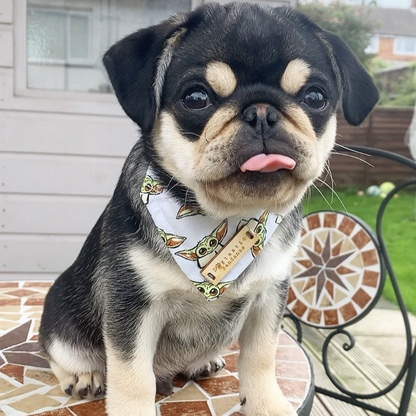Pug: (33, 1, 385, 416)
